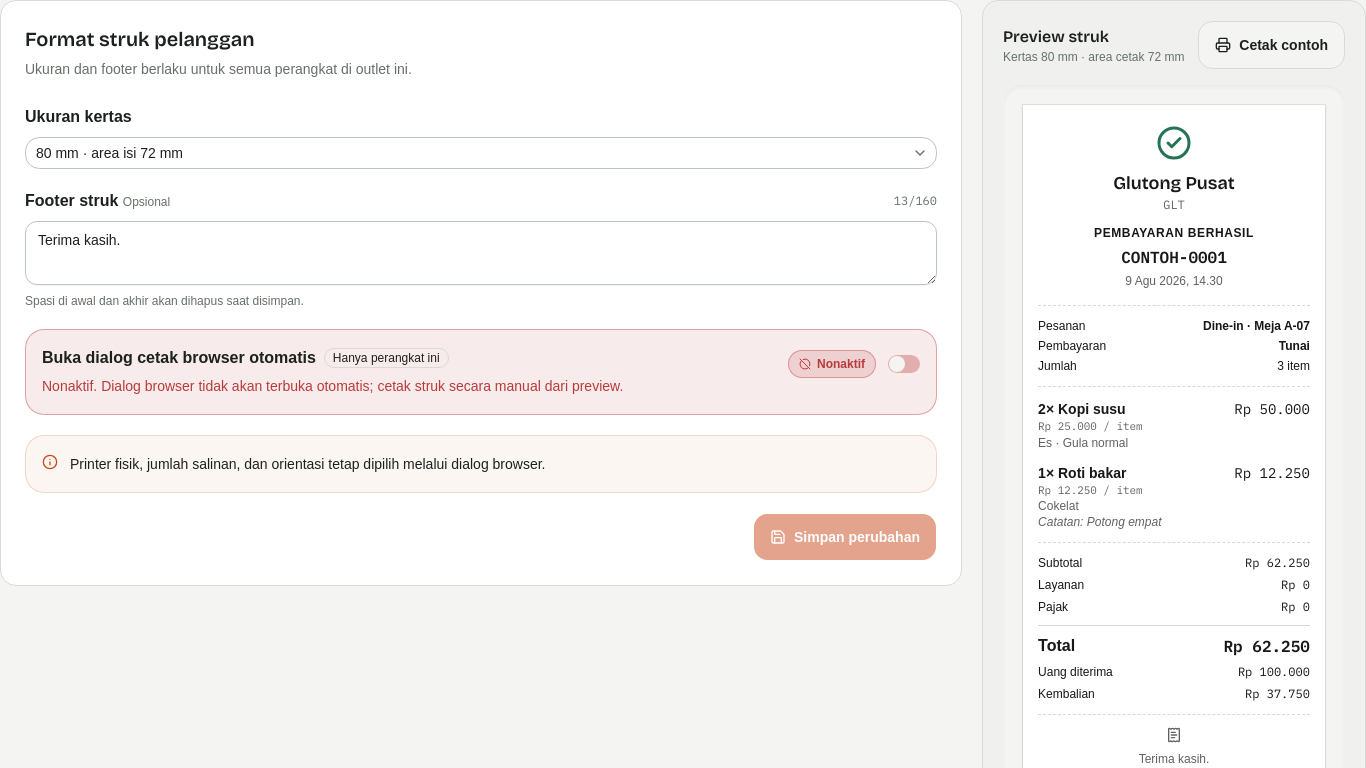
Test case: printer settings form › changes paper size and keeps the shared preview in sync
The image size is (1366, 768).
Click the dropdown named "Ukuran kertas" at [110, 153], box x1=25 y1=137 x2=937 y2=169
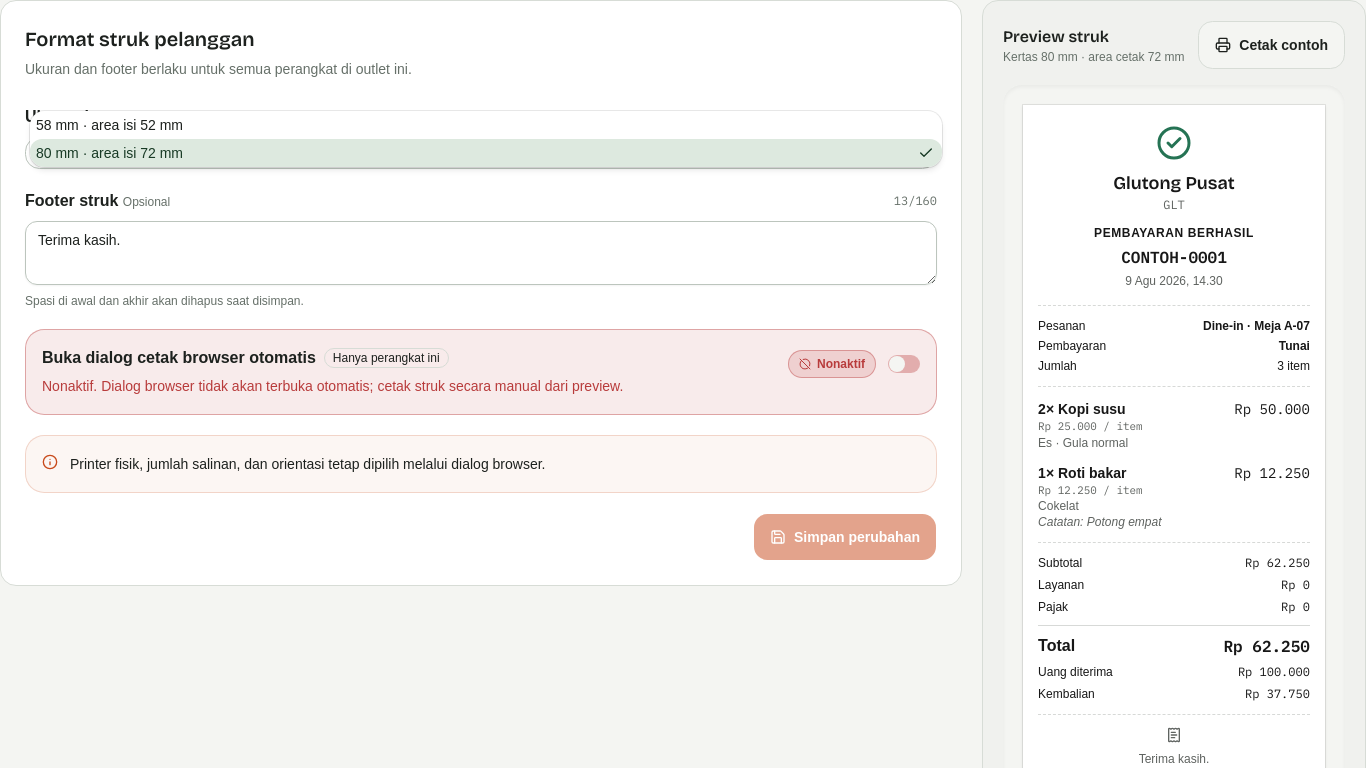
Press Arrowup Enter
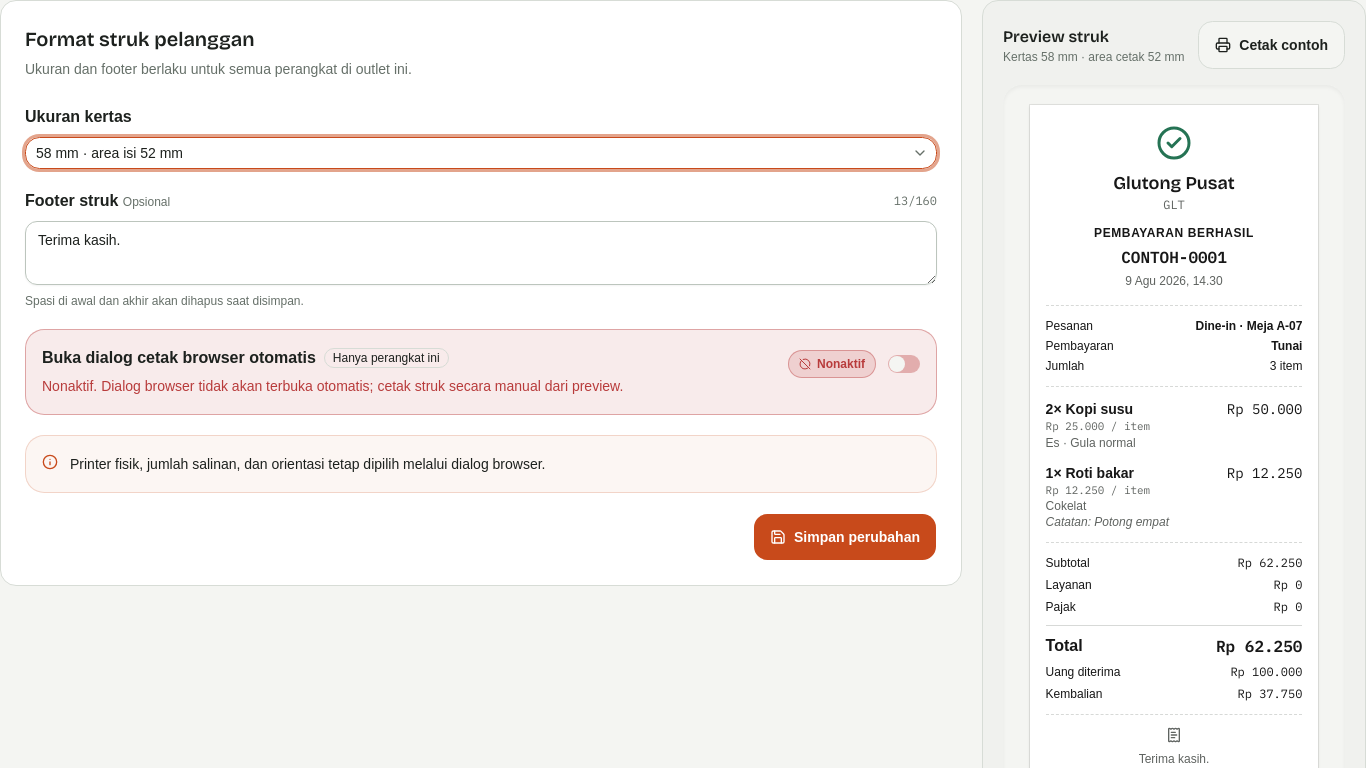
Expected: the text "Kertas 58 mm · area cetak 52 mm" is shown, x1=1003 y1=49 x2=1184 y2=65
